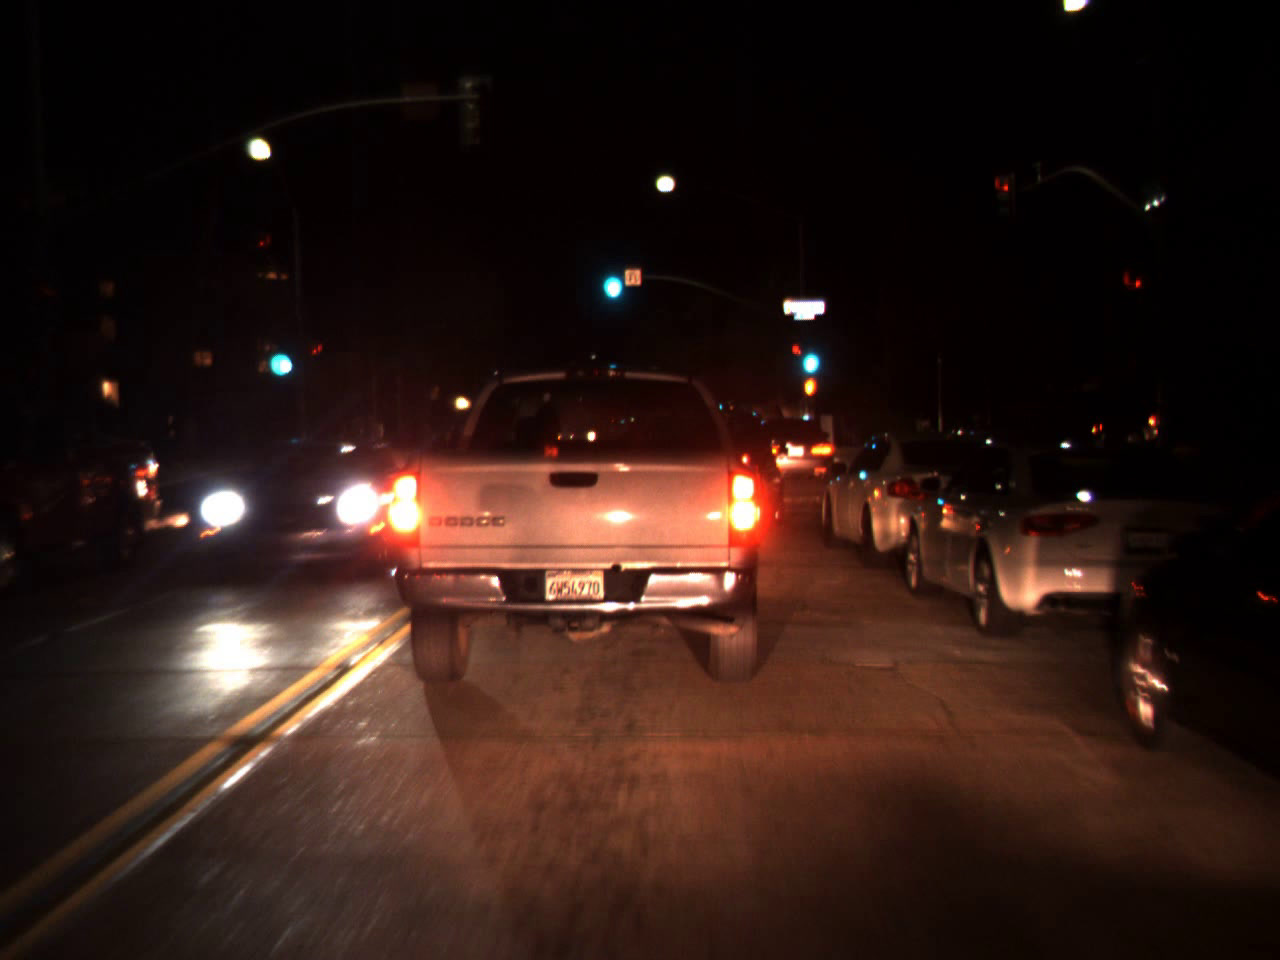go: (263, 325, 295, 385), (595, 249, 625, 306), (797, 329, 822, 380)
